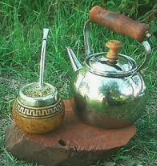calabaza: (13, 80, 66, 134)
mate: (13, 25, 66, 136)
